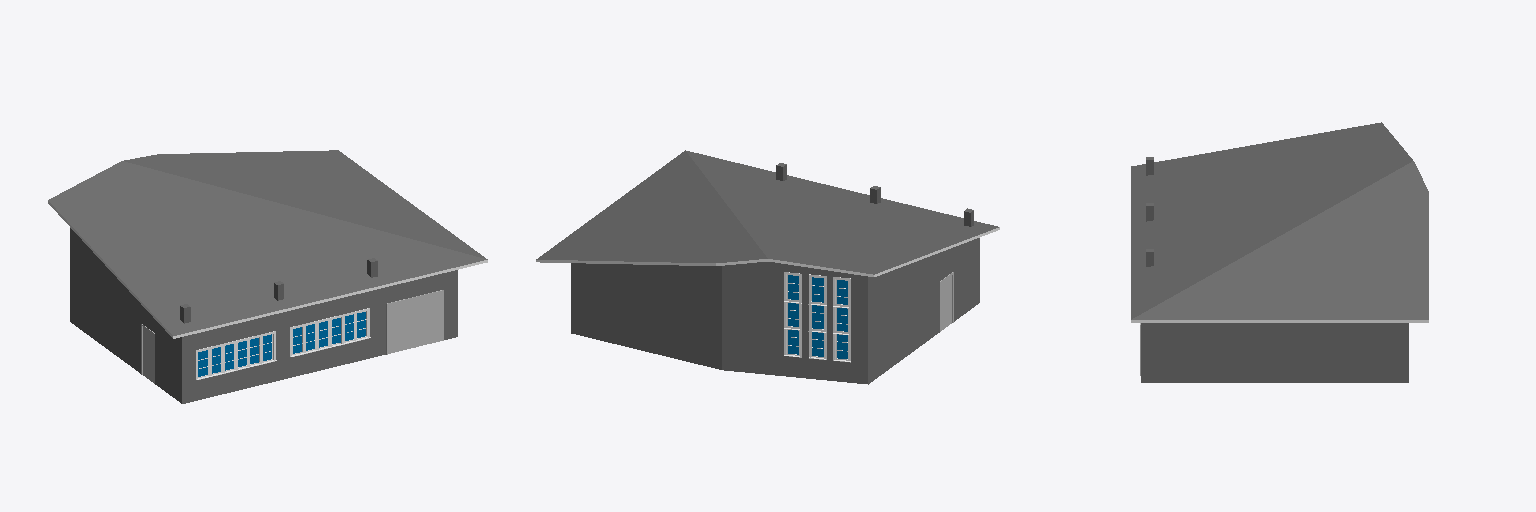
The model's file is MrPostmanKontor.obj.
3 views of the same model, side by side, from view 1: azimuth 30°, elevation 25°; view 2: azimuth 150°, elevation 25°; view 3: azimuth 270°, elevation 25° (orthographic).
Parts seen in each view (by area): view 1: [number redacted]_[number redacted]_Takpapp, [number redacted]_24_Default_Wall, [number redacted]_10429_Door_-_Panel, [number redacted]_26_Glass, [number redacted]_[number redacted]_Foder_vit, [number redacted]_[number redacted]_Undertak_-_vit, [number redacted]_30200_Door_-_Frame, [number redacted]_[number redacted]_Regel_145_yttervgg_600cc; view 2: [number redacted]_24_Default_Wall, [number redacted]_[number redacted]_Takpapp, [number redacted]_26_Glass, [number redacted]_[number redacted]_Foder_vit, [number redacted]_[number redacted]_Undertak_-_vit, [number redacted]_[number redacted]_Regel_145_yttervgg_600cc, [number redacted]_10429_Door_-_Panel; view 3: [number redacted]_[number redacted]_Takpapp, [number redacted]_24_Default_Wall, [number redacted]_[number redacted]_Undertak_-_vit.
Part boxes in pixels (left/top/right/bottom): [number redacted]_[number redacted]_Takpapp: left=48, top=150, right=487, bottom=335; [number redacted]_24_Default_Wall: left=70, top=228, right=457, bottom=403; [number redacted]_10429_Door_-_Panel: left=143, top=292, right=441, bottom=382; [number redacted]_26_Glass: left=198, top=312, right=365, bottom=376; [number redacted]_[number redacted]_Foder_vit: left=196, top=308, right=370, bottom=379; [number redacted]_[number redacted]_Undertak_-_vit: left=48, top=201, right=487, bottom=338; [number redacted]_30200_Door_-_Frame: left=141, top=290, right=443, bottom=383; [number redacted]_[number redacted]_Regel_145_yttervgg_600cc: left=180, top=258, right=377, bottom=323; [number redacted]_24_Default_Wall: left=571, top=238, right=979, bottom=384; [number redacted]_[number redacted]_Takpapp: left=536, top=150, right=998, bottom=274; [number redacted]_26_Glass: left=788, top=275, right=847, bottom=358; [number redacted]_[number redacted]_Foder_vit: left=784, top=272, right=850, bottom=362; [number redacted]_[number redacted]_Undertak_-_vit: left=536, top=227, right=999, bottom=276; [number redacted]_[number redacted]_Regel_145_yttervgg_600cc: left=776, top=163, right=973, bottom=226; [number redacted]_10429_Door_-_Panel: left=941, top=275, right=951, bottom=330; [number redacted]_[number redacted]_Takpapp: left=1131, top=122, right=1428, bottom=319; [number redacted]_24_Default_Wall: left=1141, top=323, right=1408, bottom=382; [number redacted]_[number redacted]_Undertak_-_vit: left=1131, top=320, right=1428, bottom=322.
Size of the model in its own units: 14.09 by 5.35 by 11.59.